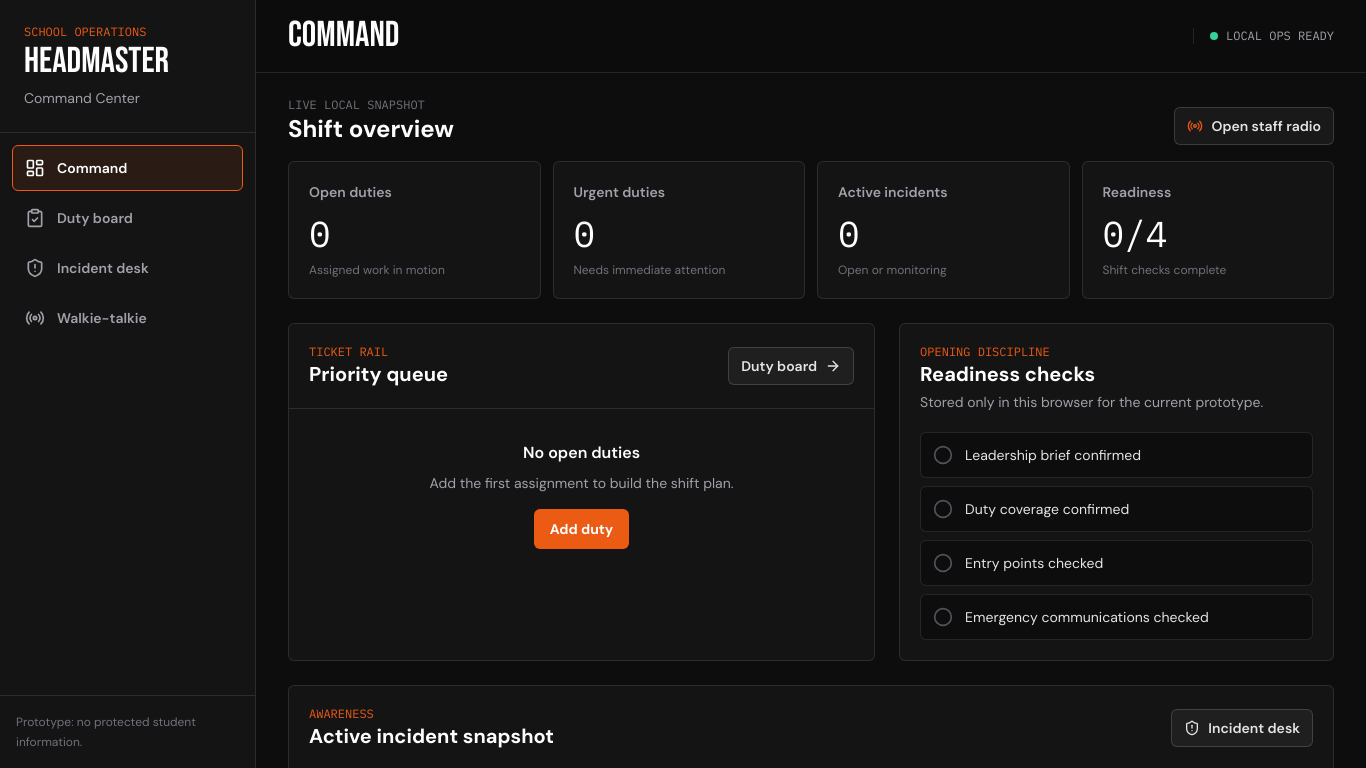
Headmaster command center › navigates to the duty form and adds a complete assignment
Click the button "Duty board" below "Command Center" at point(128, 218), box [12, 195, 243, 241]
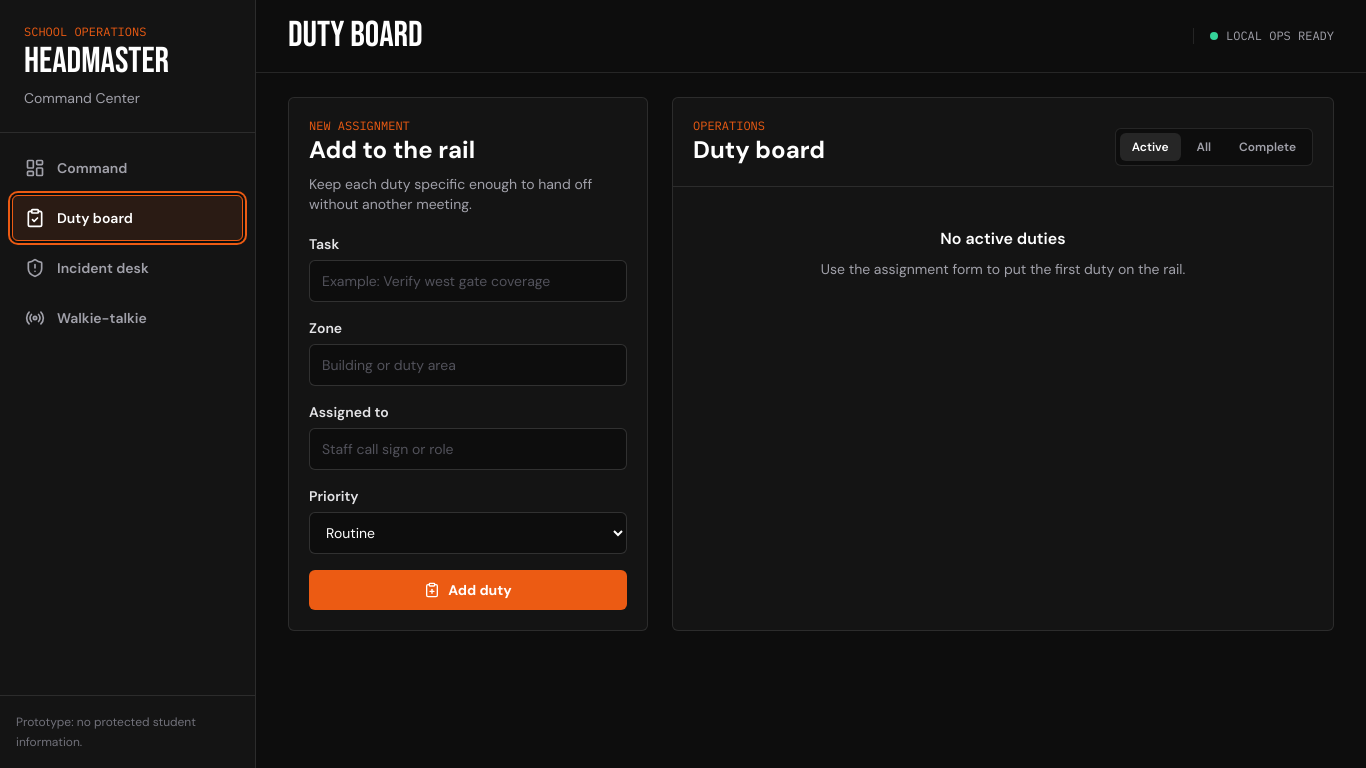
Type "Verify west gate coverage" into the field labelled "Task" at point(468, 281), box [309, 260, 627, 302]
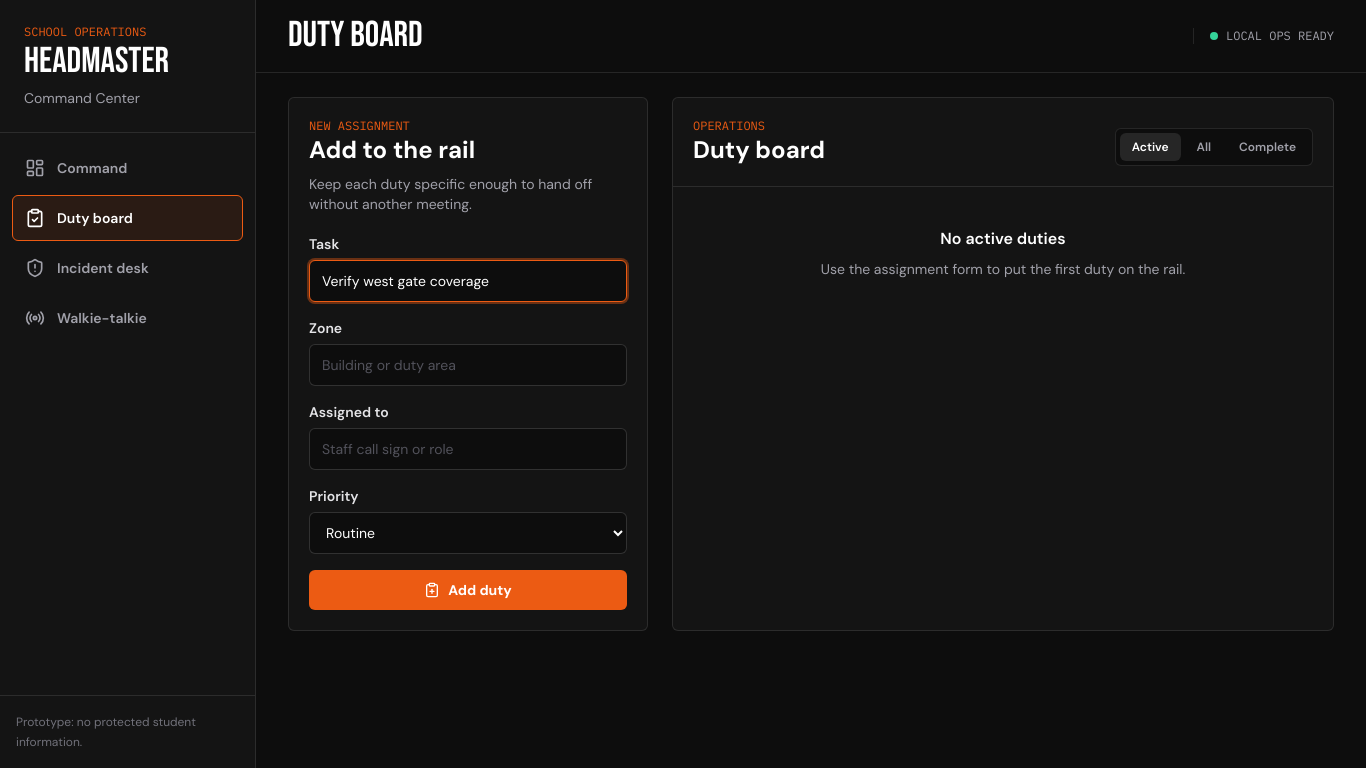
Type "West gate" into the field labelled "Zone" at point(468, 365), box [309, 344, 627, 386]
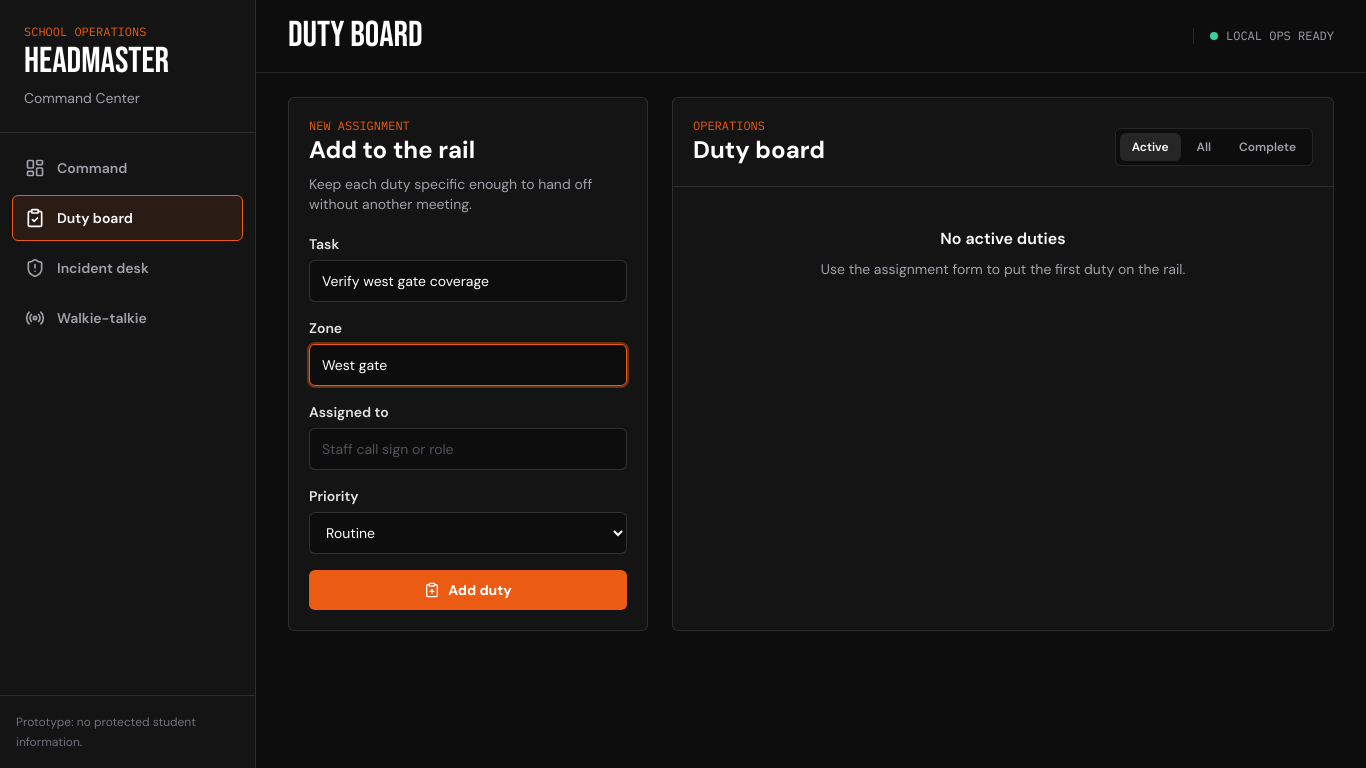
Type "Duty lead" into the field labelled "Assigned to" at point(468, 449), box [309, 428, 627, 470]
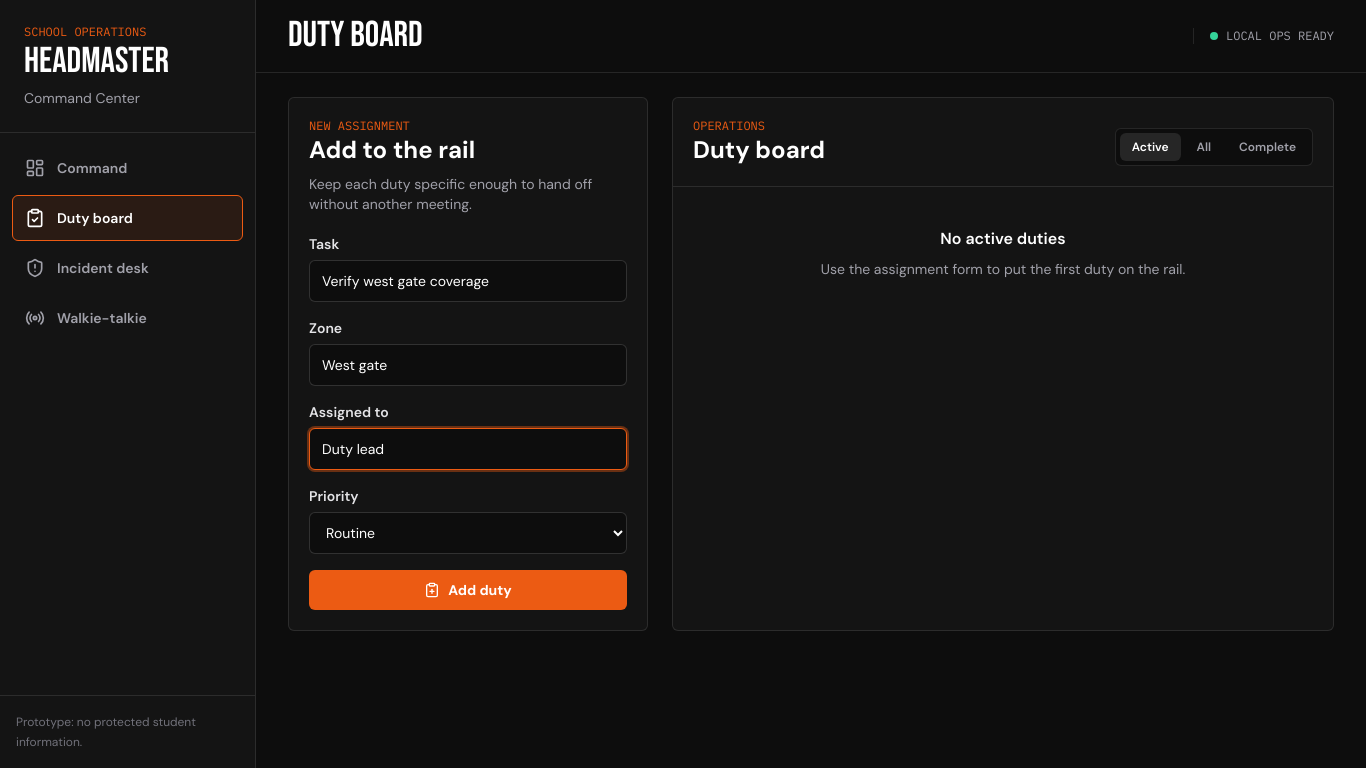
Select "Urgent" in the dropdown labelled "Priority" at point(468, 533), box [309, 512, 627, 554]
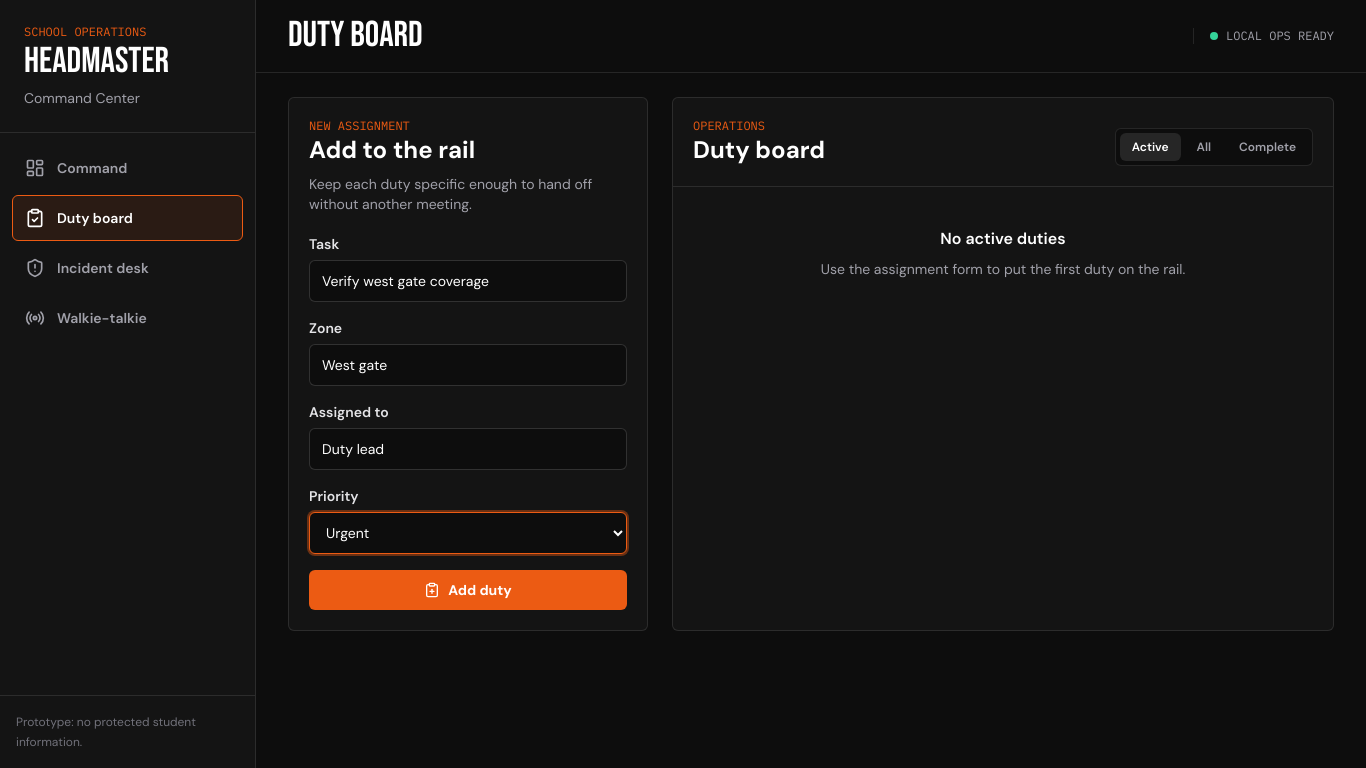
Click the button "Add duty" at point(468, 590), box [309, 570, 627, 610]
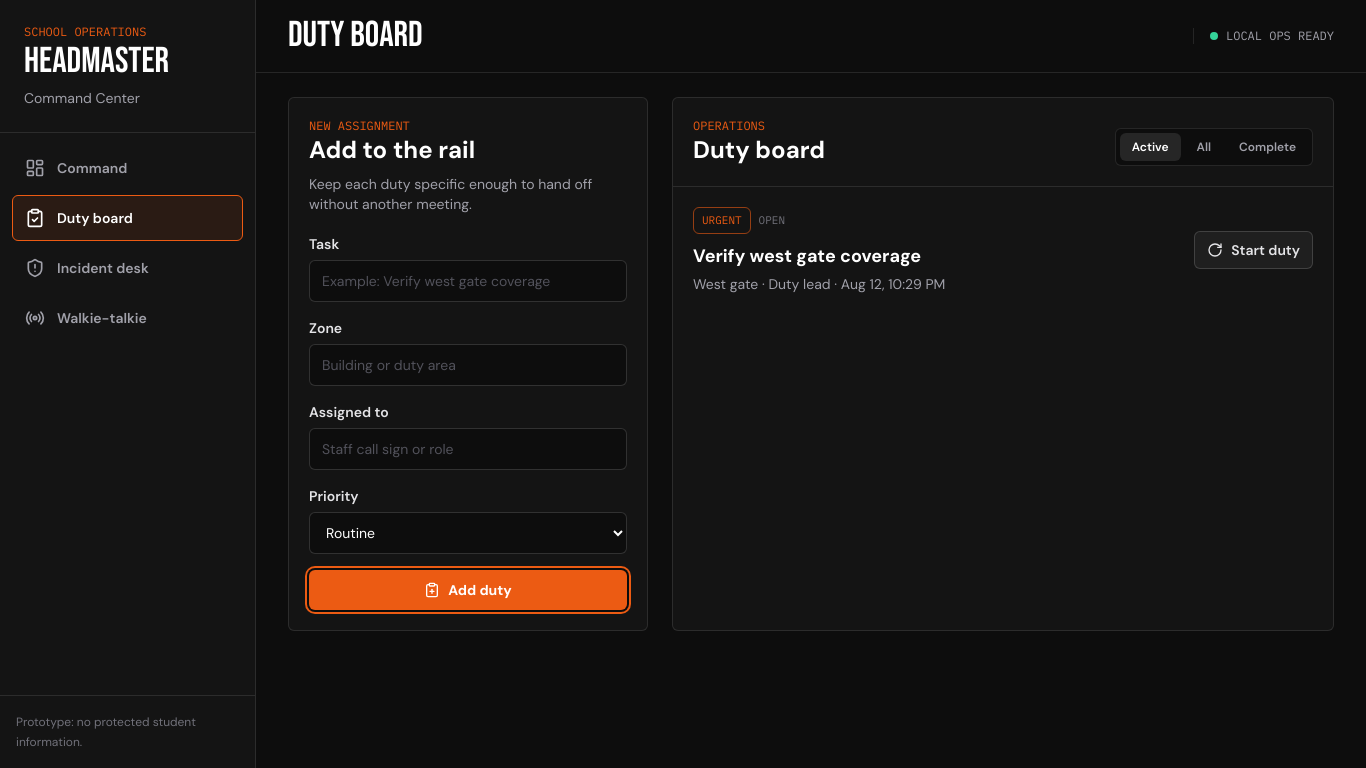
Now the heading "Verify west gate coverage" is shown, box [693, 244, 921, 268]
Now the text "West gate · Duty lead · Aug 12, 10:29 PM" is shown, box [693, 274, 945, 292]
